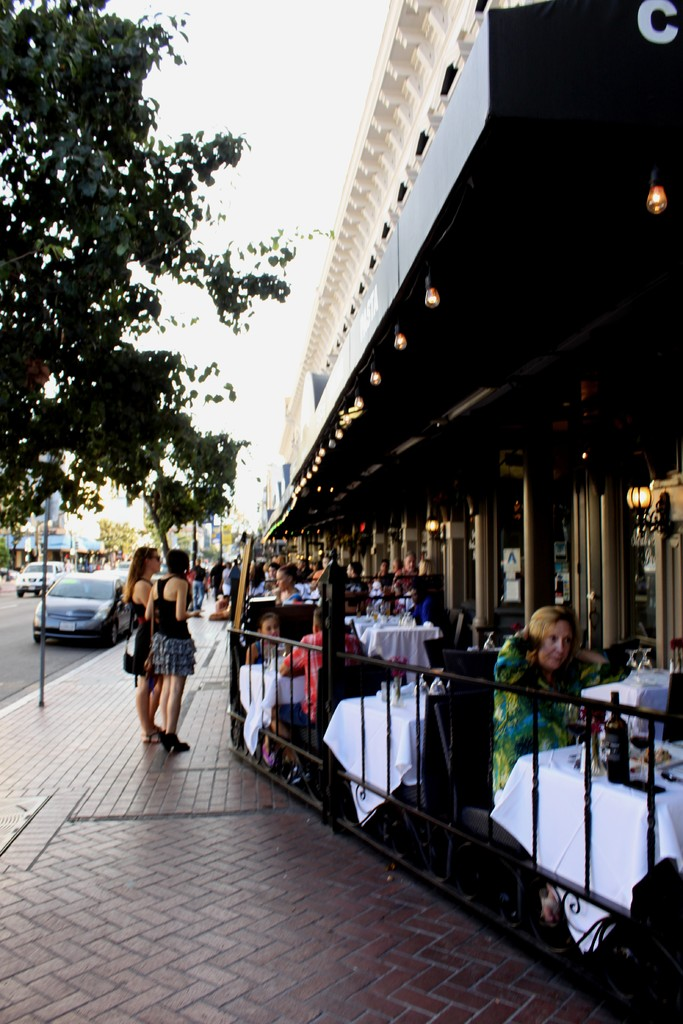car: (35, 565, 139, 651), (16, 550, 63, 594)
